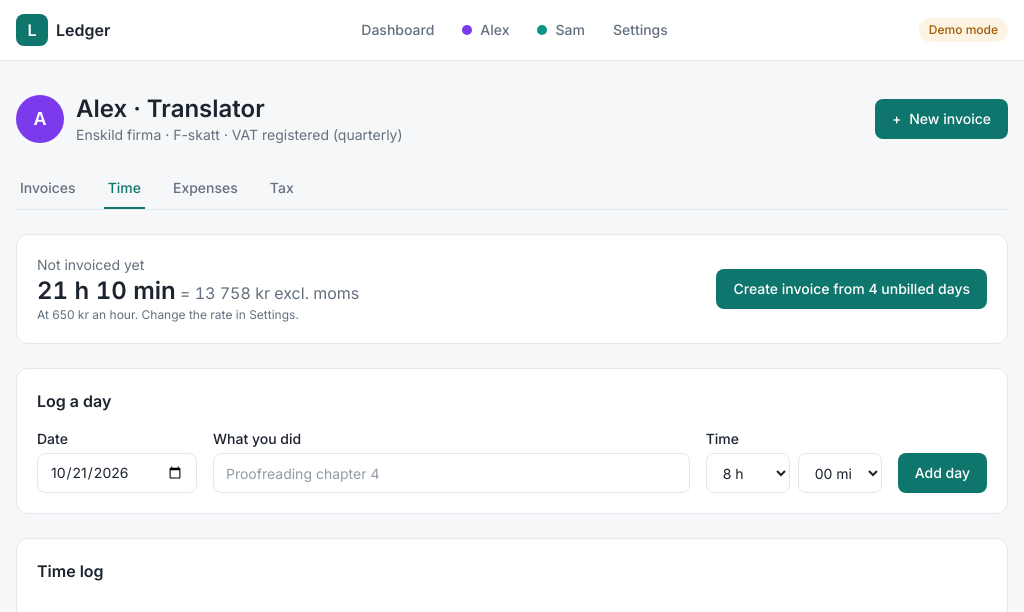
it: Time page › explains what is missing before adding a day
The width and height of the screenshot is (1024, 612).
Step 1. Select "0 h" in the dropdown named "Hours" → (748, 473), box 706,453 -> 790,493
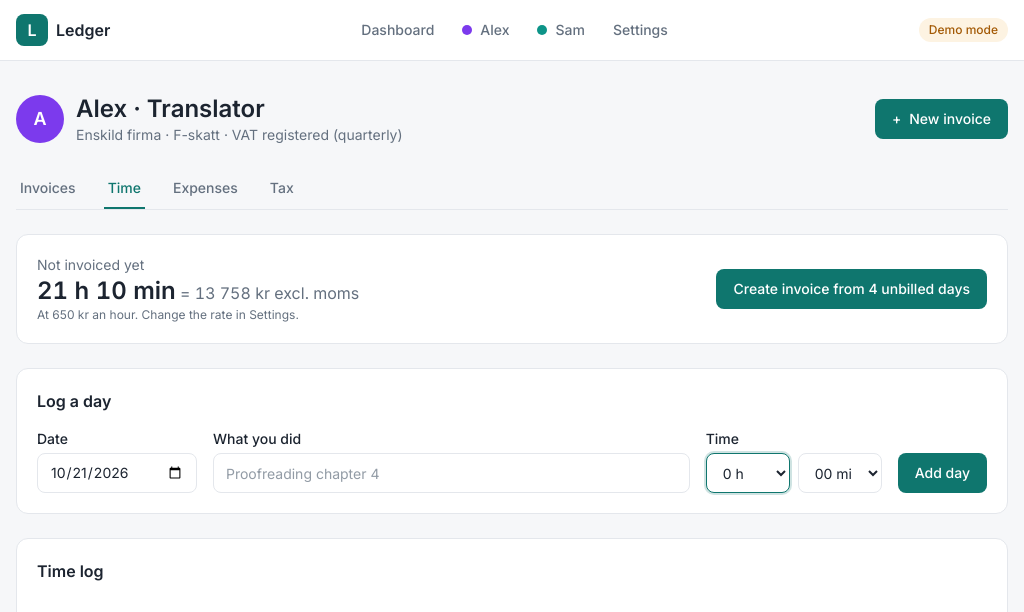
Step 2. Click the button "Add day" → (942, 473), box 898,453 -> 987,493
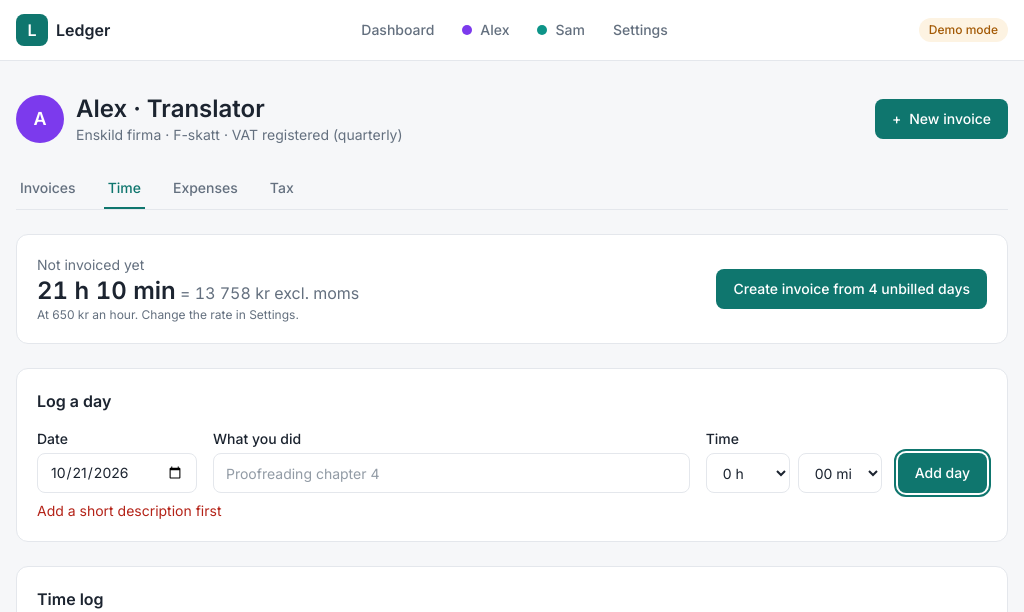
Now the text "Add a short description first" is shown, box 37,502 -> 222,519
Step 3. Type "Review" into the field labelled "What you did" → (451, 473), box 213,453 -> 690,493
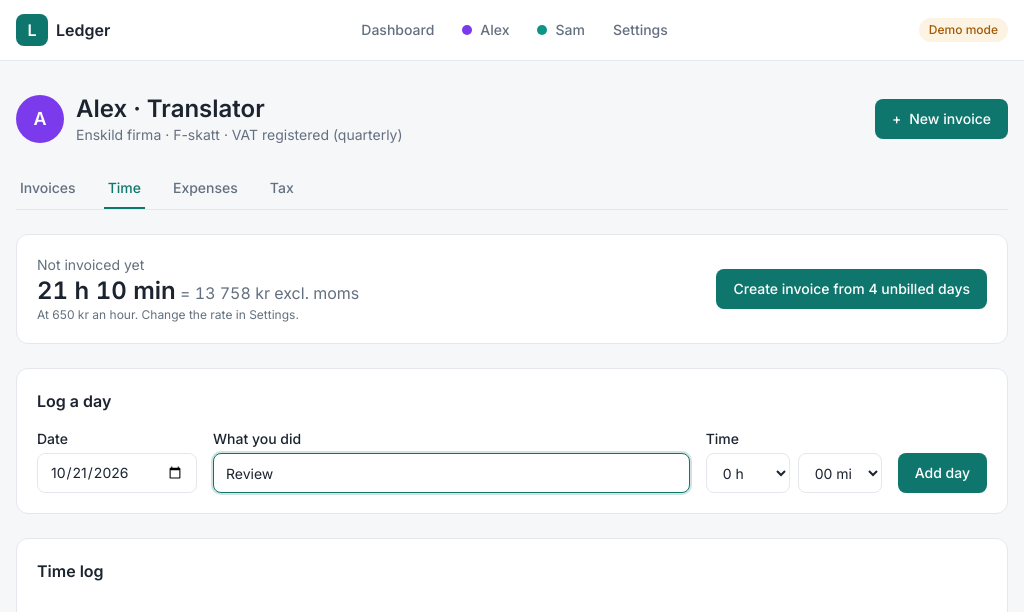
Step 4. Click the button "Add day" → (942, 473), box 898,453 -> 987,493
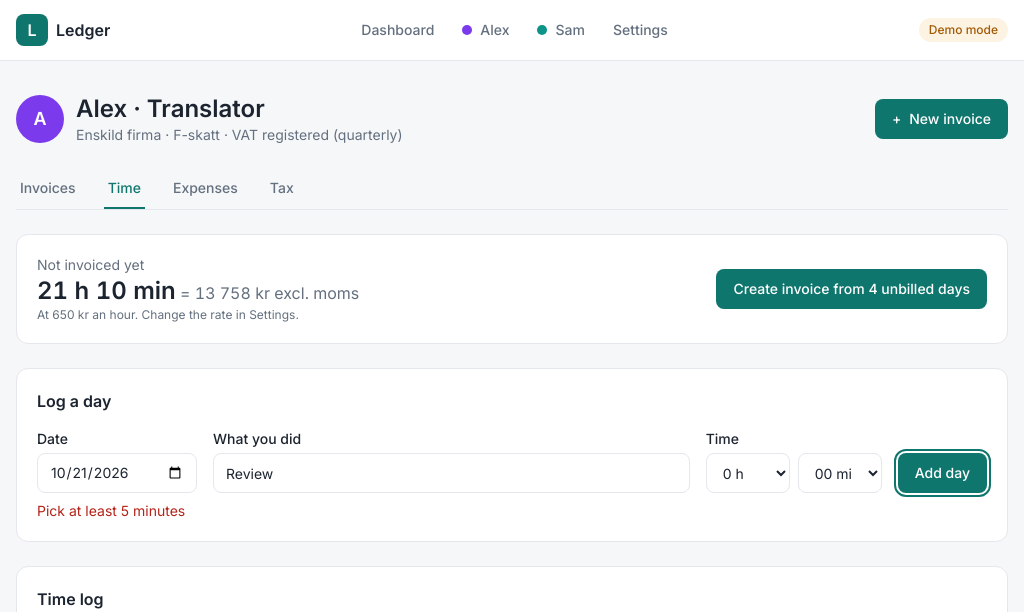
Now the text "Pick at least 5 minutes" is shown, box 37,502 -> 185,519
